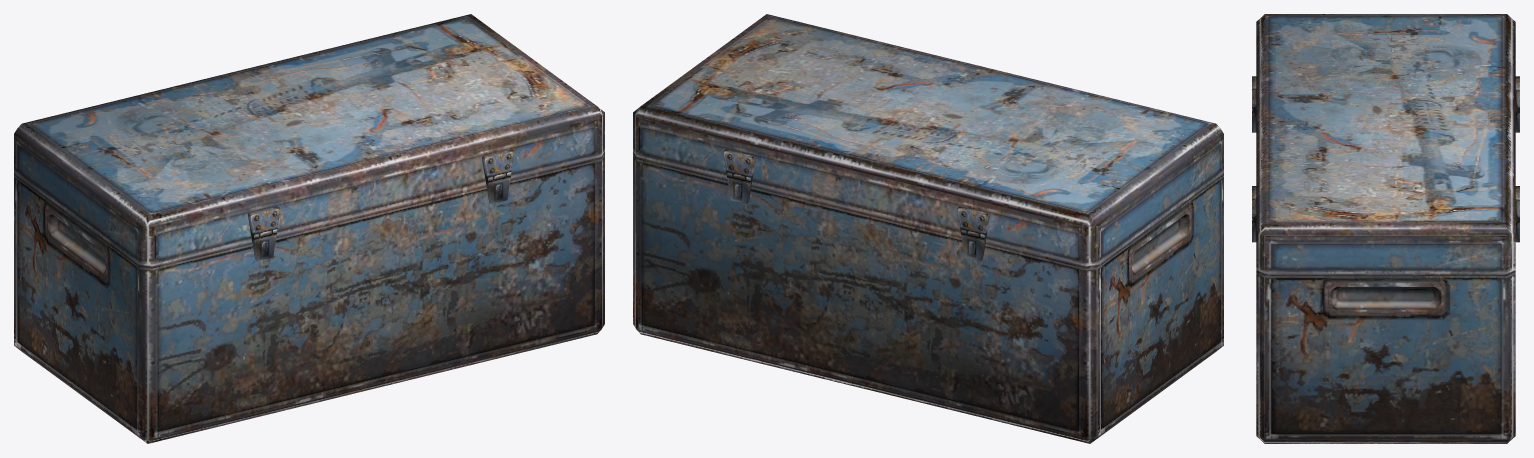
The model's file is item_box_blue.glb.
3 views of the same model, side by side, from view 1: azimuth 30°, elevation 25°; view 2: azimuth 150°, elevation 25°; view 3: azimuth 270°, elevation 25° (orthographic). The views are drawn at different scales.
Visible parts, largest first — view 1: normal.684; view 2: normal.684; view 3: normal.684.
Part boxes in pixels (x1=…): normal.684: x1=14, y1=14, x2=604, y2=443; normal.684: x1=633, y1=14, x2=1223, y2=443; normal.684: x1=1252, y1=14, x2=1519, y2=443.
Bounding box in the file's own units: 0.9015 × 0.4229 × 0.4684.
Materials: 1 (1 with a texture image).
